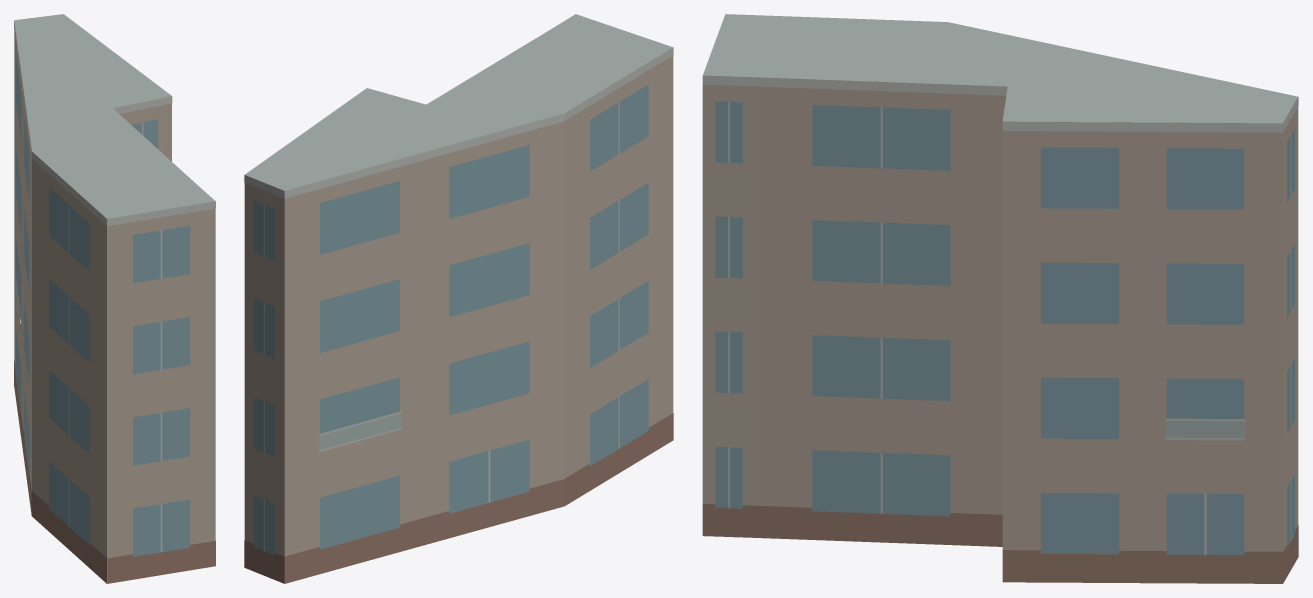
The model's file is survey-upis-32769595.glb.
3 views of the same model, side by side, from view 1: azimuth 30°, elevation 25°; view 2: azimuth 150°, elevation 25°; view 3: azimuth 270°, elevation 25° (orthographic). The views are drawn at different scales.
Parts seen in each view (by area): view 1: survey-upis-32769595.tmp; view 2: survey-upis-32769595.tmp; view 3: survey-upis-32769595.tmp.
Boxes of the visible parts, box(x1,y1,x2,y2) form: survey-upis-32769595.tmp: box(14, 14, 215, 583); survey-upis-32769595.tmp: box(244, 14, 673, 583); survey-upis-32769595.tmp: box(702, 14, 1298, 583).
Bounding box in the file's own units: 6.24 × 12.2 × 14.31.
